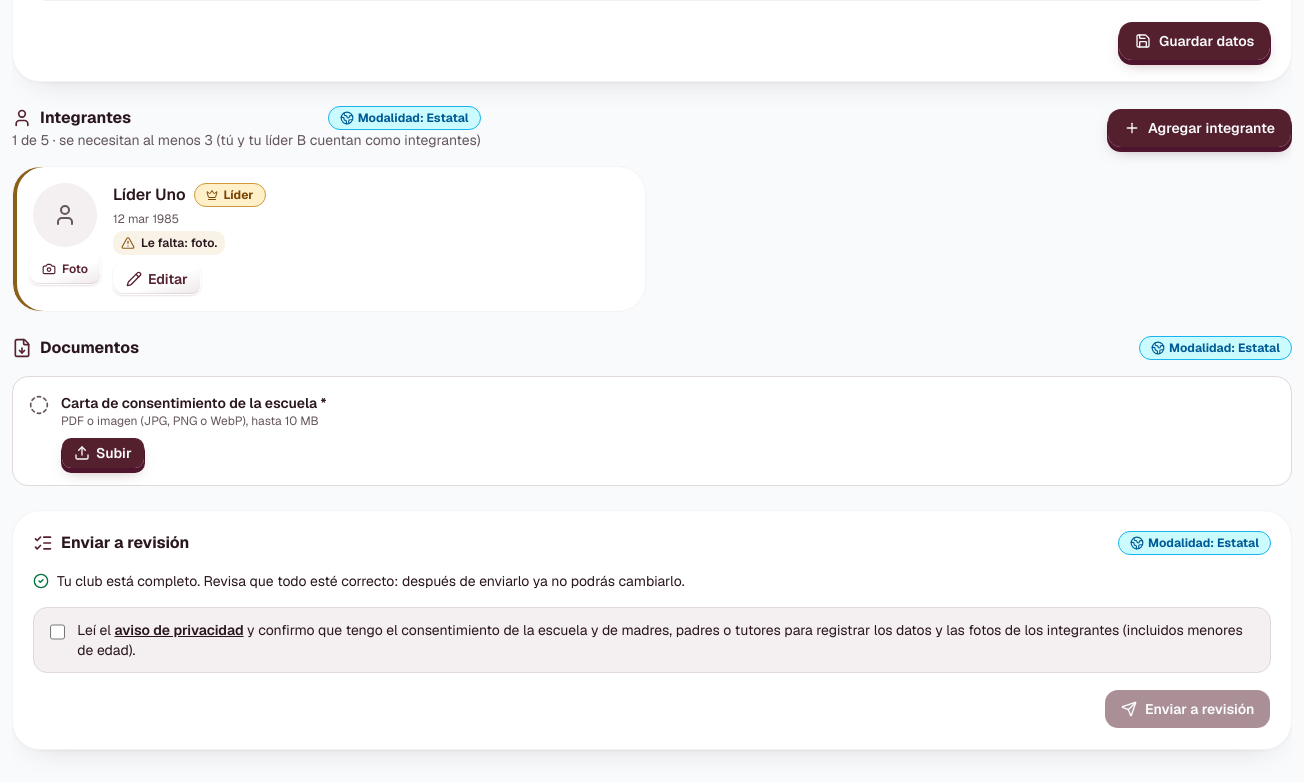
Mi club (E52 · F1) › F2 · en captura, el envío exige aceptar el aviso de privacidad
This screenshot has width=1304, height=782.
(page scrolled)
expect the button "Enviar a revisión" is disabled: met, box [1104,689,1271,729]
Click the checkbox labelled "aviso de privacidad". click: (58, 632)
box: [50,624,65,640]
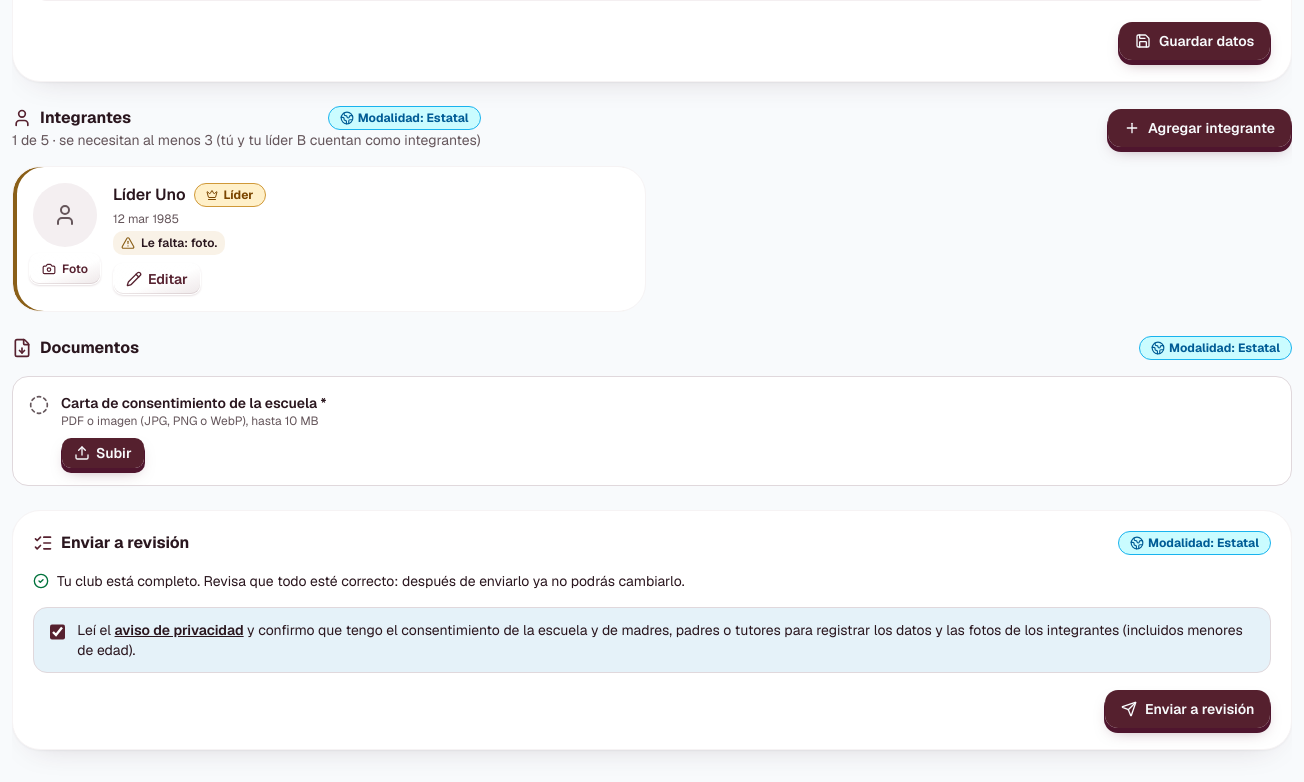
expect the button "Enviar a revisión" is enabled: met, box [1104,689,1271,729]
